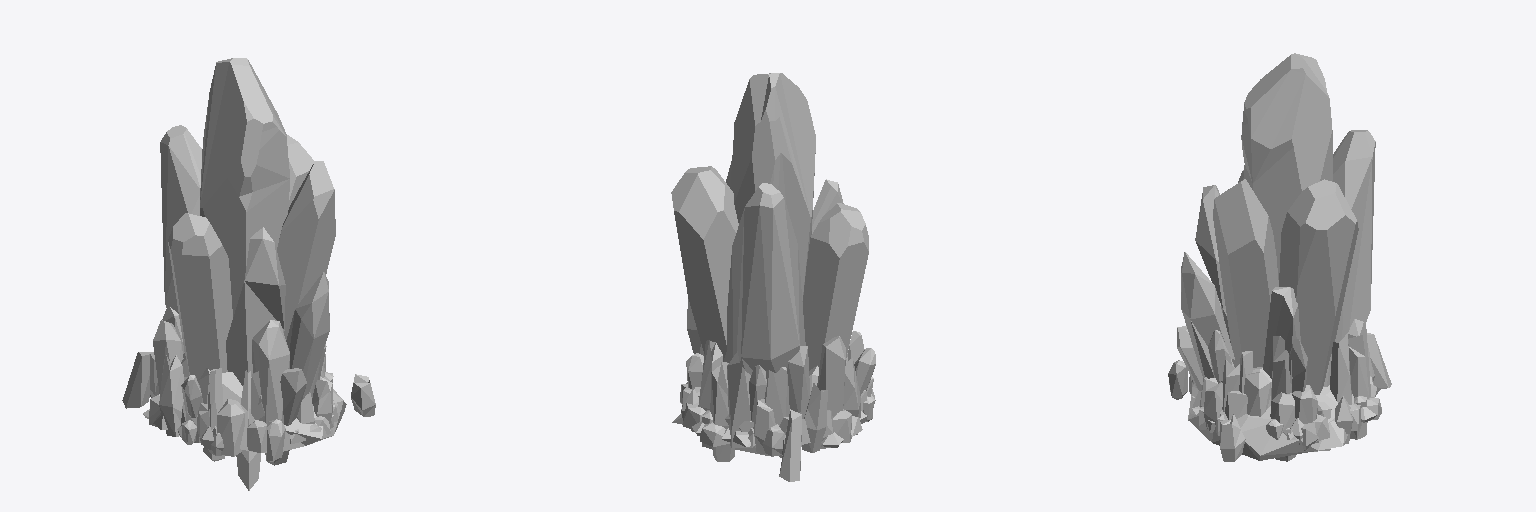
The model's file is Cristal2.obj.
3 views of the same model, side by side, from view 1: azimuth 30°, elevation 25°; view 2: azimuth 150°, elevation 25°; view 3: azimuth 270°, elevation 25° (orthographic).
Visible parts, largest first — view 1: Object_232, Object_559, Object_550, Object_535, Object_226, Object_538, Object_421, Object_184, Object_382, Object_451, Object_334, Object_385 (+9 smaller); view 2: Object_226, Object_232, Object_541, Object_559, Object_409, Object_376, Object_370, Object_343, Object_334, Object_322, Object_337, Object_307 (+5 smaller); view 3: Object_232, Object_541, Object_550, Object_226, Object_184, Object_538, Object_547, Object_535, Object_307, Object_370, Object_523, Object_529 (+11 smaller).
Boxes of the visible parts, x1,y1,x2,y2 form: Object_232: [200, 58, 289, 316]; Object_559: [168, 213, 232, 380]; Object_550: [277, 161, 335, 339]; Object_535: [226, 227, 285, 385]; Object_226: [160, 125, 201, 313]; Object_538: [286, 272, 329, 399]; Object_421: [252, 320, 289, 423]; Object_184: [181, 353, 346, 452]; Object_382: [159, 354, 183, 436]; Object_451: [217, 399, 244, 456]; Object_334: [122, 352, 152, 408]; Object_385: [280, 368, 306, 425]; Object_226: [724, 183, 805, 456]; Object_232: [730, 73, 815, 301]; Object_541: [671, 166, 738, 361]; Object_559: [803, 203, 868, 370]; Object_409: [817, 336, 845, 416]; Object_376: [727, 351, 753, 447]; Object_370: [710, 362, 734, 461]; Object_343: [787, 346, 809, 418]; Object_334: [779, 409, 801, 481]; Object_322: [802, 383, 827, 452]; Object_337: [764, 367, 789, 425]; Object_307: [698, 340, 722, 448]; Object_232: [1241, 53, 1332, 279]; Object_541: [1279, 179, 1358, 394]; Object_550: [1213, 179, 1278, 367]; Object_226: [1323, 130, 1375, 386]; Object_184: [1188, 384, 1353, 460]; Object_538: [1181, 252, 1234, 378]; Object_547: [1263, 287, 1300, 383]; Object_535: [1195, 185, 1230, 342]; Object_307: [1330, 333, 1351, 444]; Object_370: [1348, 335, 1369, 439]; Object_523: [1271, 336, 1295, 461]; Object_529: [1244, 372, 1270, 416].
Bounding box in the file's own units: 1.66 × 3.25 × 1.71.